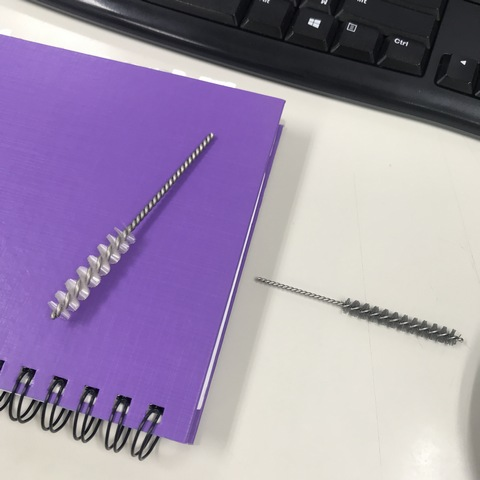Twist Brush-A: (252, 274, 464, 348)
Twist Brush-B: (43, 132, 219, 324)
